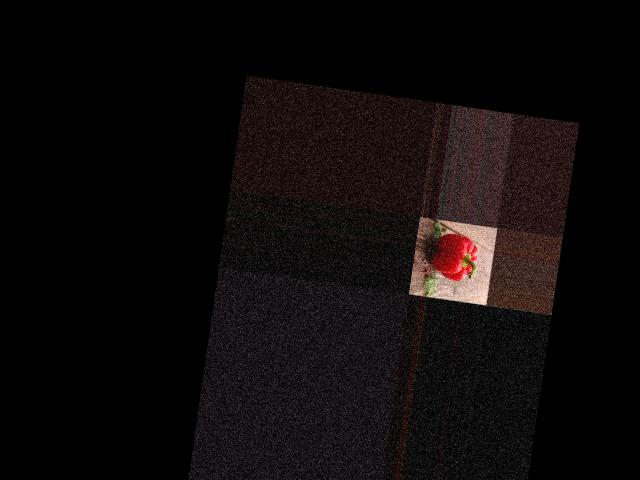bell_pepper: (427, 228, 484, 286)
